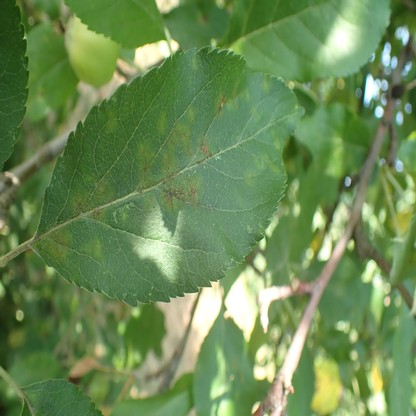scab: (158, 174, 204, 213), (72, 180, 115, 221), (169, 123, 196, 161), (40, 229, 72, 259), (137, 142, 155, 193), (80, 237, 105, 265), (214, 92, 238, 115), (159, 151, 179, 177), (104, 105, 119, 134), (197, 137, 215, 161), (23, 389, 38, 411), (255, 152, 268, 170), (159, 109, 167, 135), (244, 170, 255, 187), (269, 160, 281, 175), (251, 105, 261, 122), (261, 77, 270, 92), (188, 107, 196, 123), (273, 135, 281, 151), (242, 86, 249, 104), (120, 211, 128, 225)
